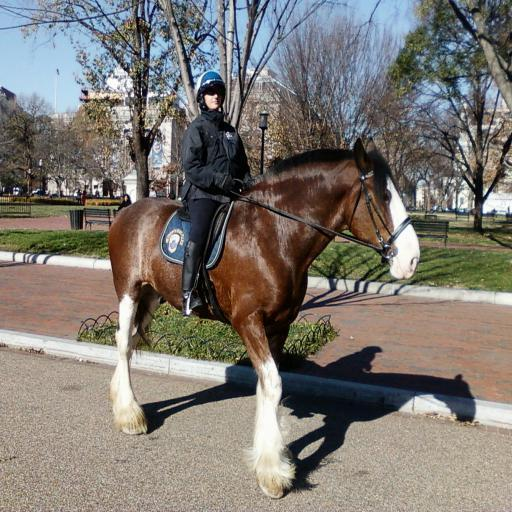horse: (108, 132, 424, 503)
